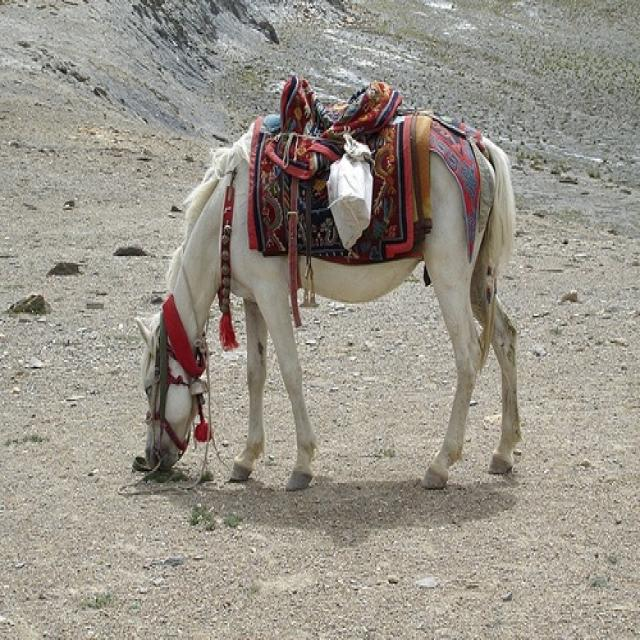horse: (139, 108, 521, 500)
